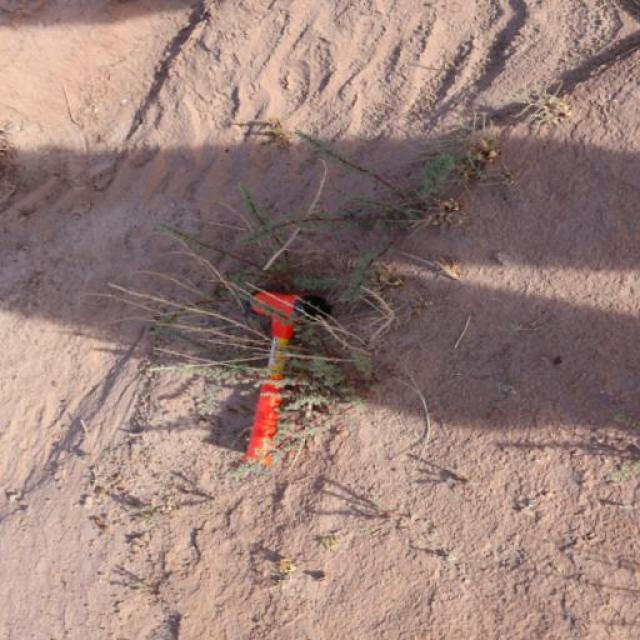mallet: (239, 285, 331, 467)
